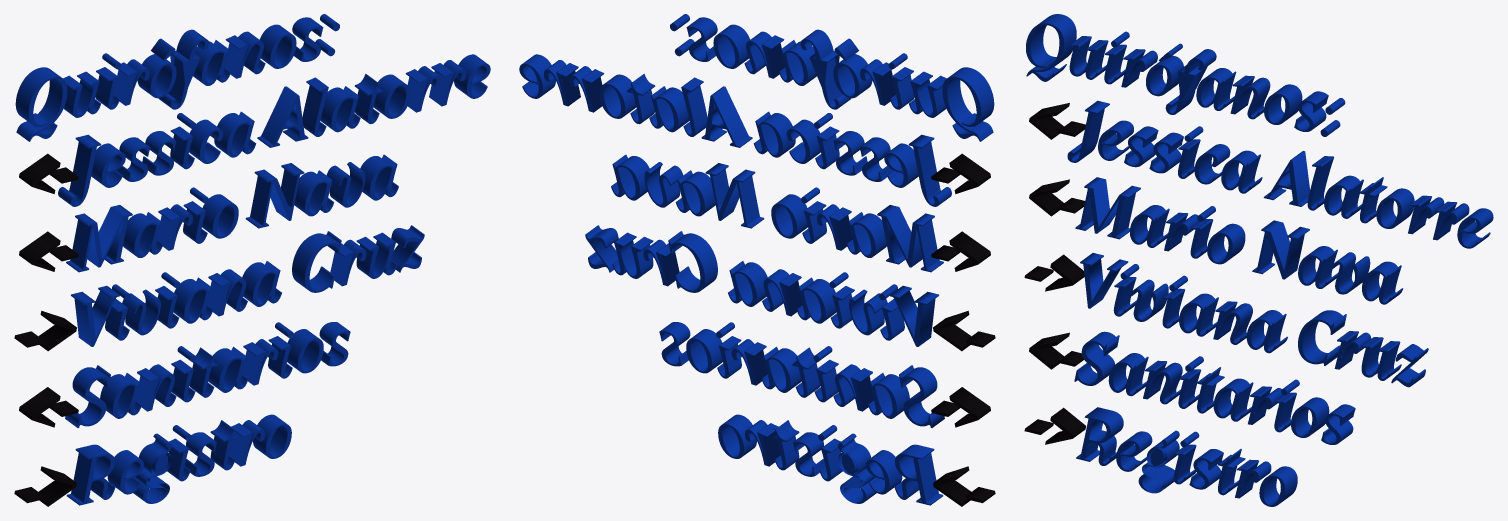
File: letras 1.obj
The picture shows the model from 3 angles, left to right: view 1: azimuth 30°, elevation 25°; view 2: azimuth 150°, elevation 25°; view 3: azimuth 330°, elevation 25°; orthographic projection.
Parts seen in each view (by area): view 1: Text.006_Text.005; view 2: Text.006_Text.005; view 3: Text.006_Text.005.
Boxes of the visible parts, bbox=[...] form: Text.006_Text.005: bbox=[14, 14, 490, 506]; Text.006_Text.005: bbox=[519, 14, 995, 506]; Text.006_Text.005: bbox=[1024, 14, 1493, 506].
Bounding box in the file's own units: 6.23 × 5.82 × 0.3.
